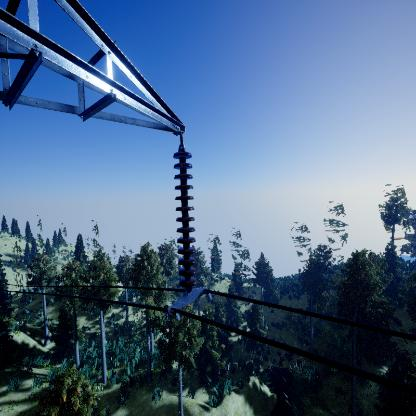insulator: (171, 149, 199, 293)
